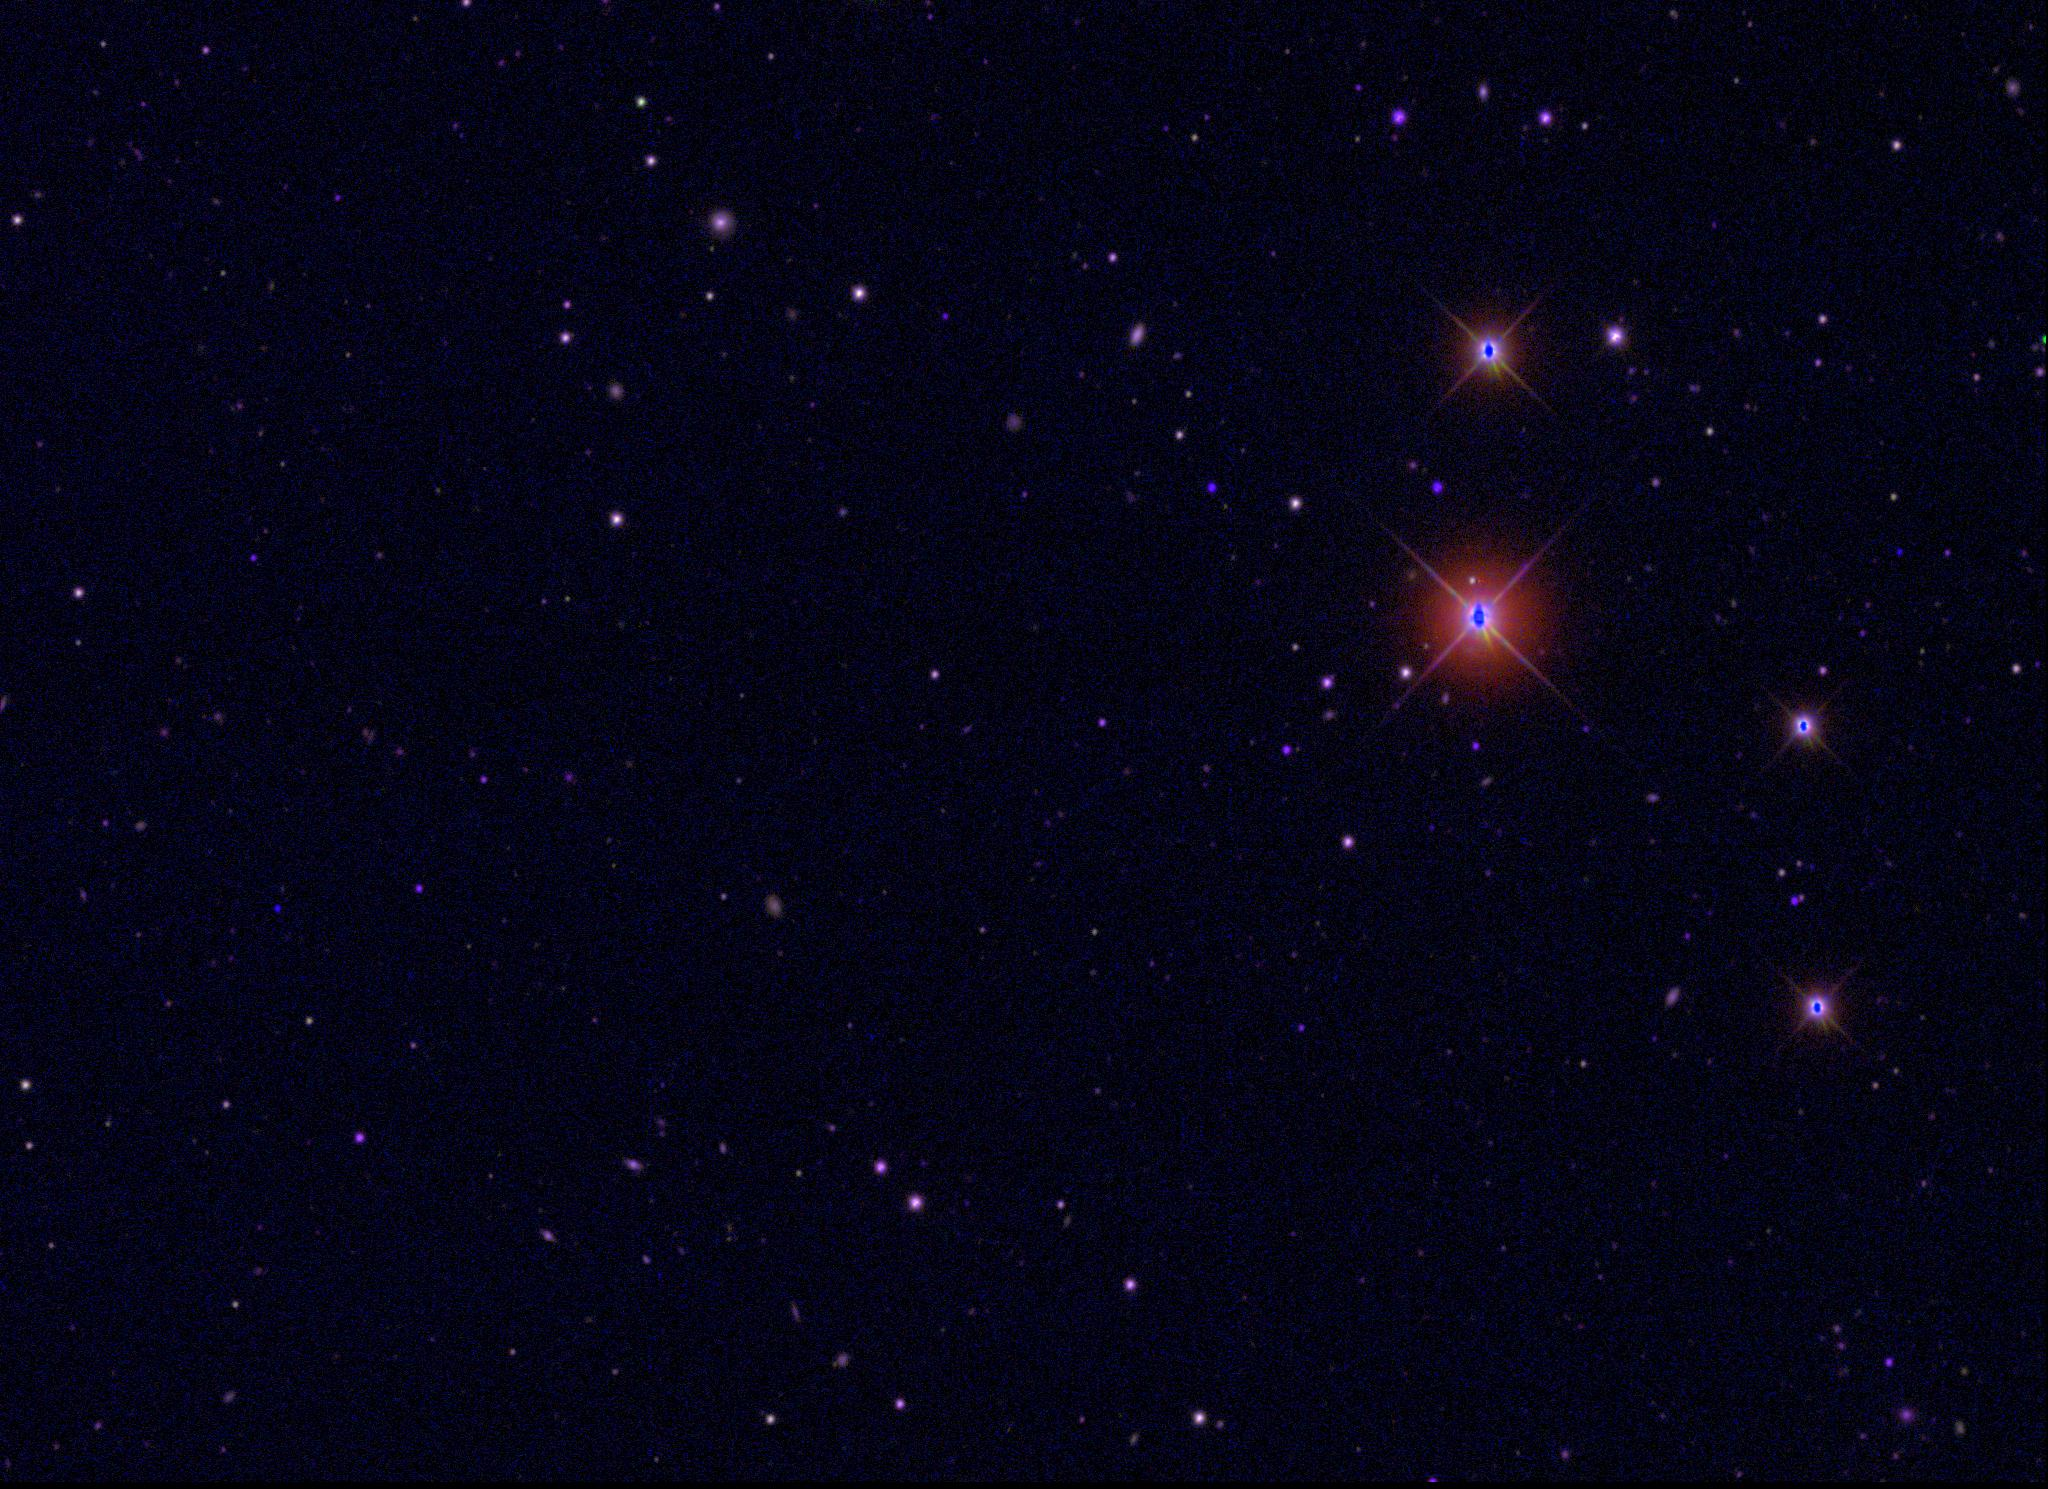L: (272, 902, 286, 916)
